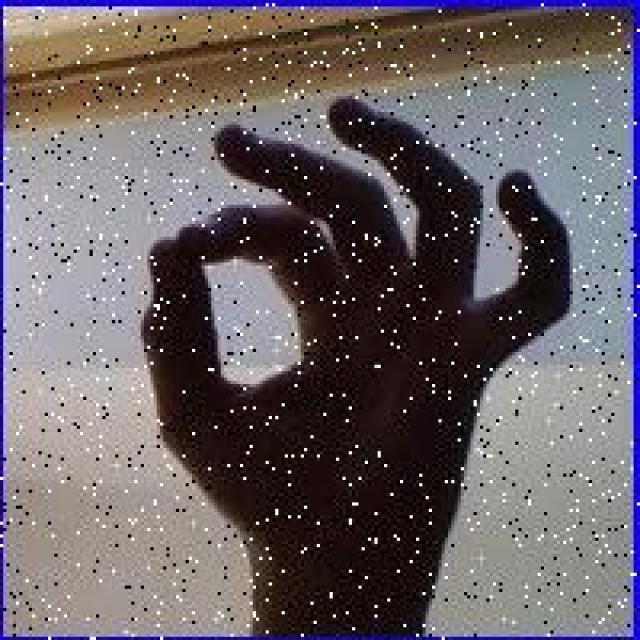F: (127, 90, 588, 576)
